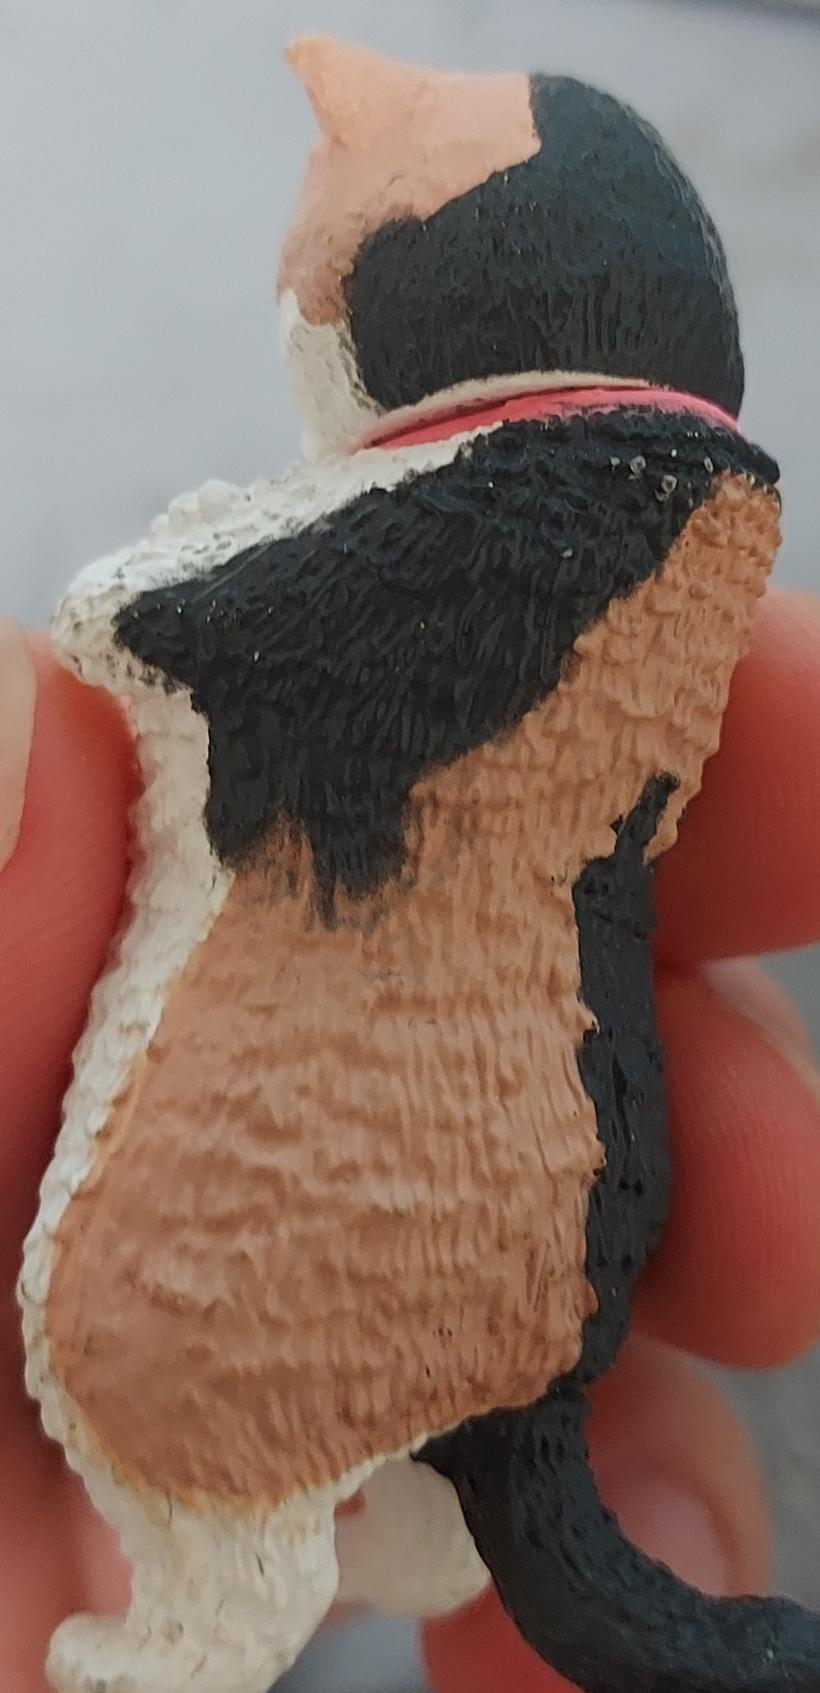cat: (0, 1, 820, 1693)
